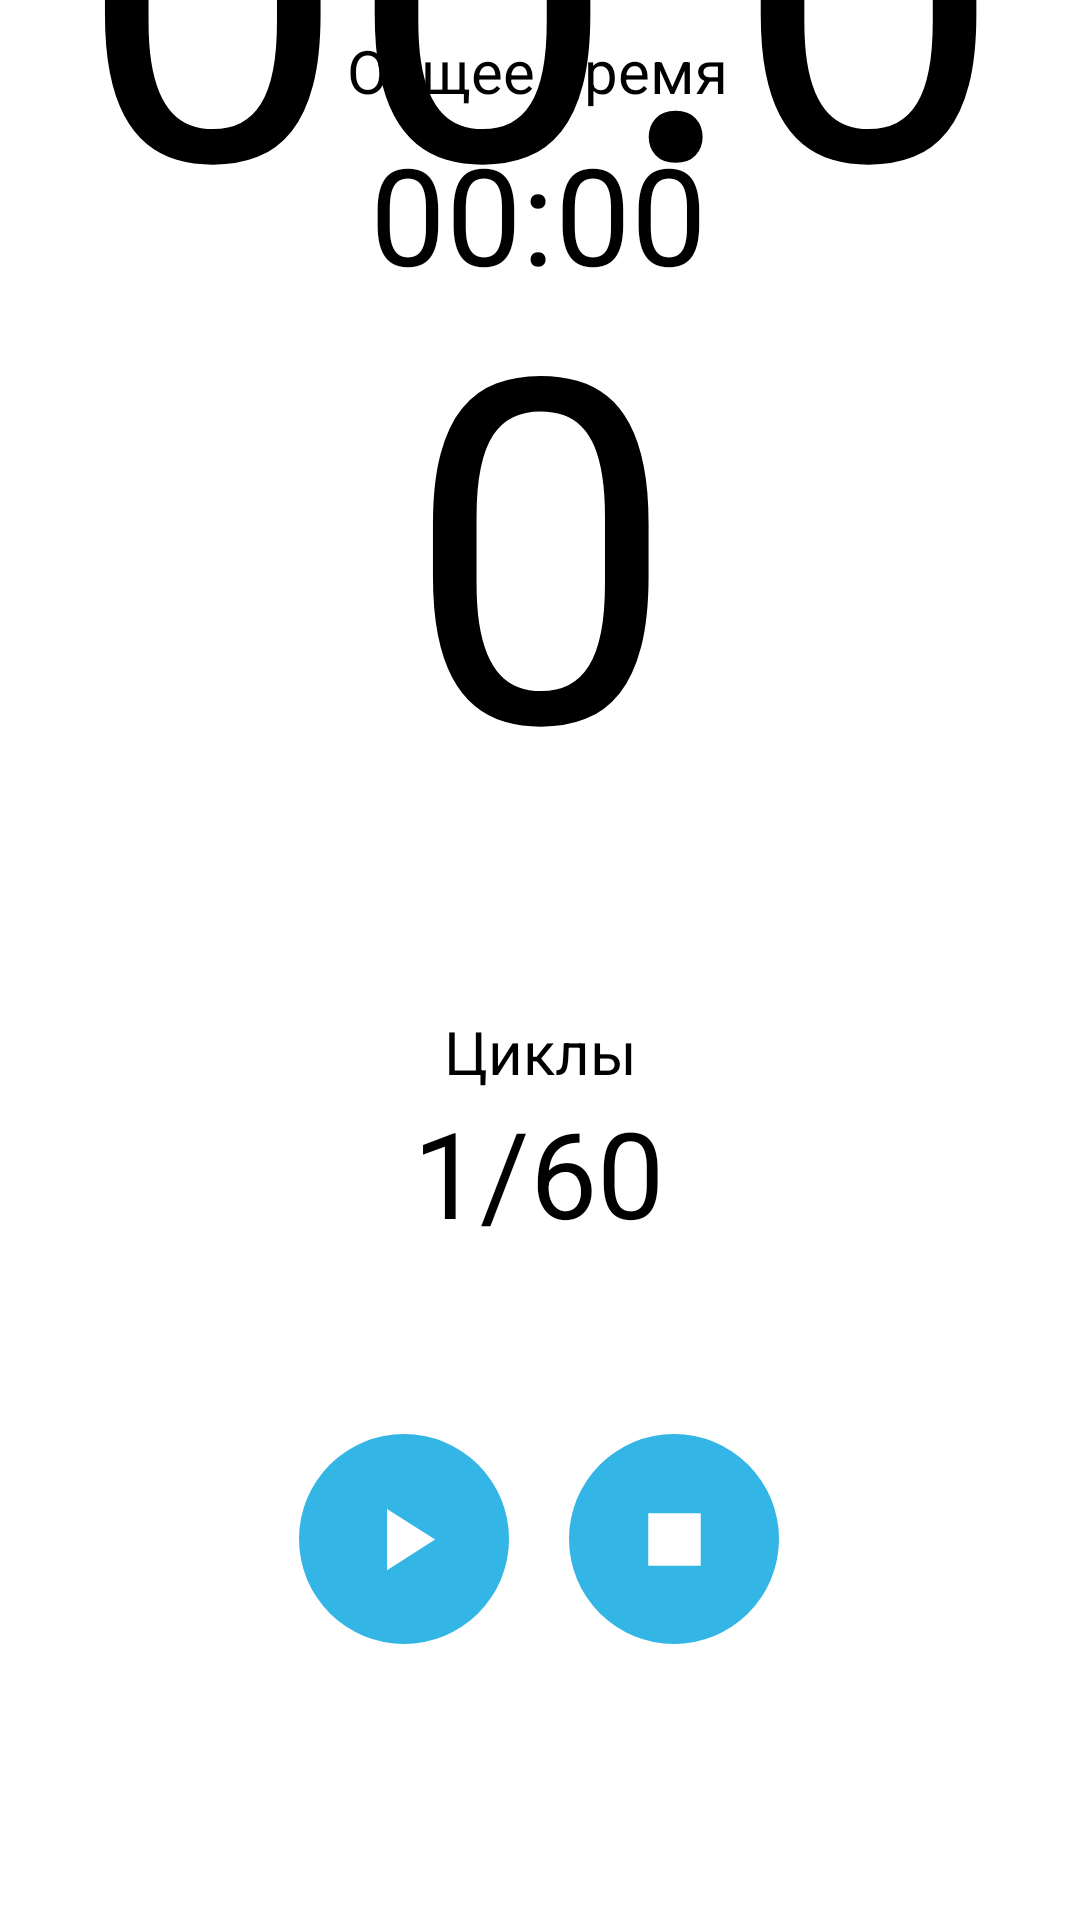

Icon click points for this 1080×1920 phone screenshot, format (x=x, y=y):
resume: (x=404, y=1539)
stop: (x=674, y=1539)
